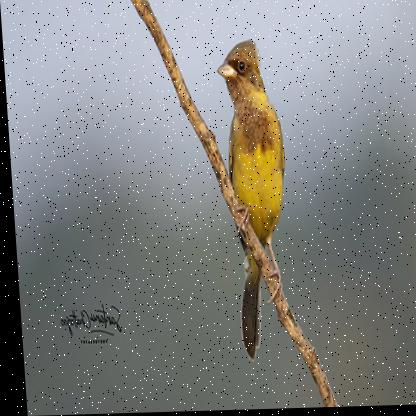Burung: (210, 40, 293, 364)
